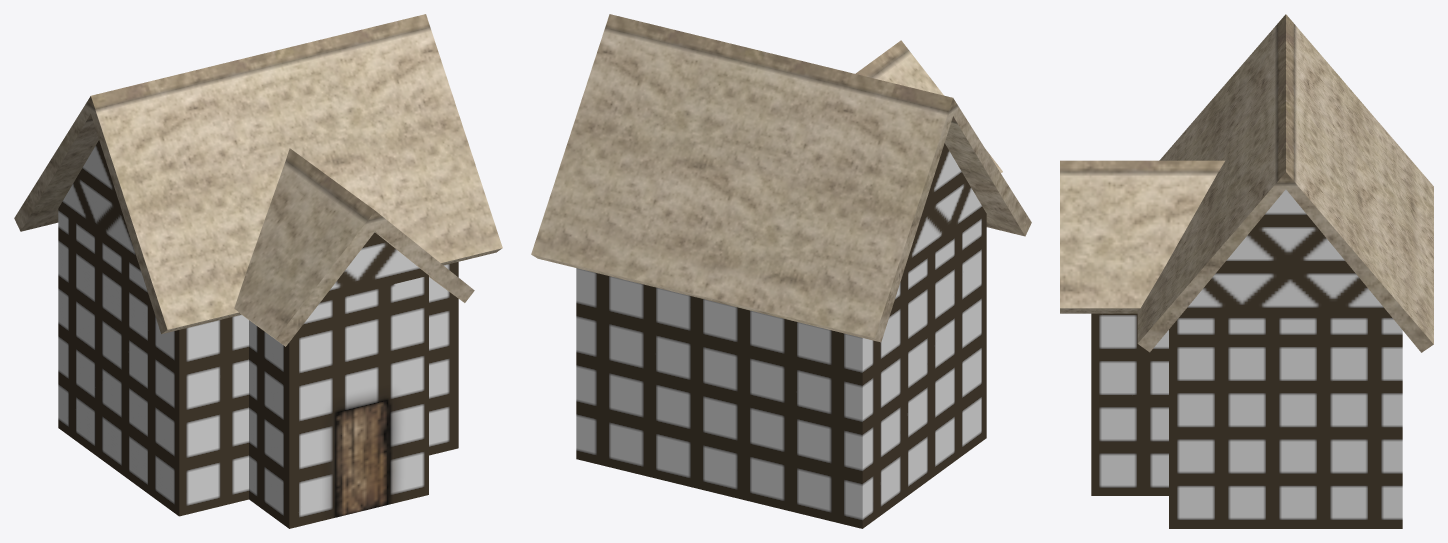
Rendered from house.DAE.
3 views of the same model, side by side, from view 1: azimuth 30°, elevation 25°; view 2: azimuth 150°, elevation 25°; view 3: azimuth 270°, elevation 25° (orthographic). The views are drawn at different scales.
Parts seen in each view (by area): view 1: Box001; view 2: Box001; view 3: Box001.
Boxes of the visible parts, box(x1,y1,x2,y2) form: Box001: box(14, 14, 502, 528); Box001: box(531, 14, 1031, 528); Box001: box(1060, 14, 1433, 528).
Size of the model in its own units: 24 by 24 by 26.22.
